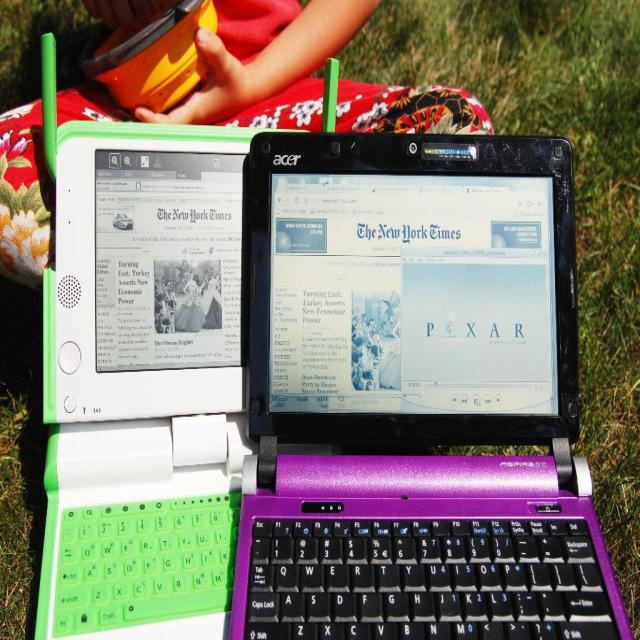laptop: (233, 137, 616, 635)
